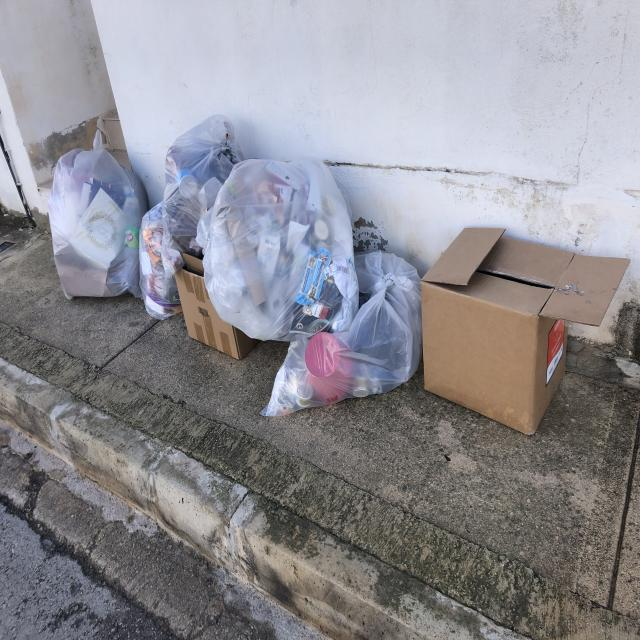Organic Waste -White Bag-: (269, 238, 421, 422), (204, 161, 360, 338), (139, 111, 236, 321), (50, 142, 139, 307)
Other: (421, 225, 582, 432), (179, 261, 226, 353)
